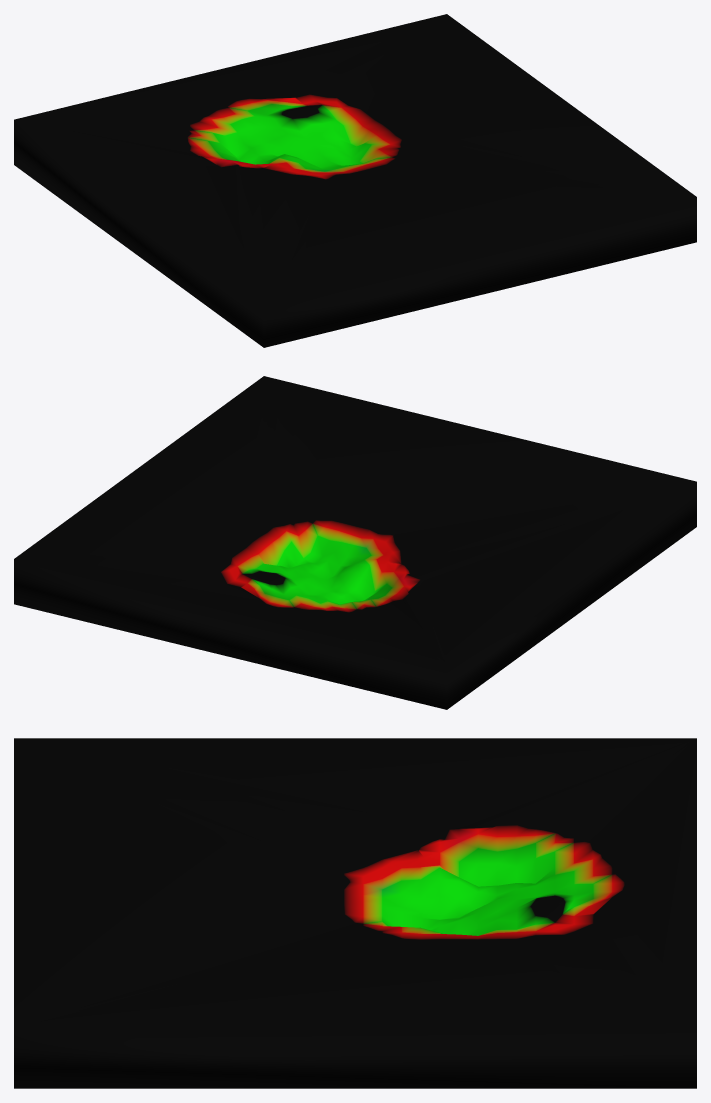
File: FloorV1Base-DamagedV1.fbx
The picture shows the model from 3 angles, top to bottom: view 1: azimuth 30°, elevation 25°; view 2: azimuth 150°, elevation 25°; view 3: azimuth 270°, elevation 25°; orthographic projection. The views are drawn at different scales.
Parts seen in each view (by area): view 1: FloorV1Base_DamagedV1; view 2: FloorV1Base_DamagedV1; view 3: FloorV1Base_DamagedV1.
Part boxes in pixels (x1,y1,x2,y2): FloorV1Base_DamagedV1: (14, 14, 696, 347); FloorV1Base_DamagedV1: (14, 376, 696, 709); FloorV1Base_DamagedV1: (14, 738, 696, 1088).
Size of the model in its own units: 200 by 20 by 200.
